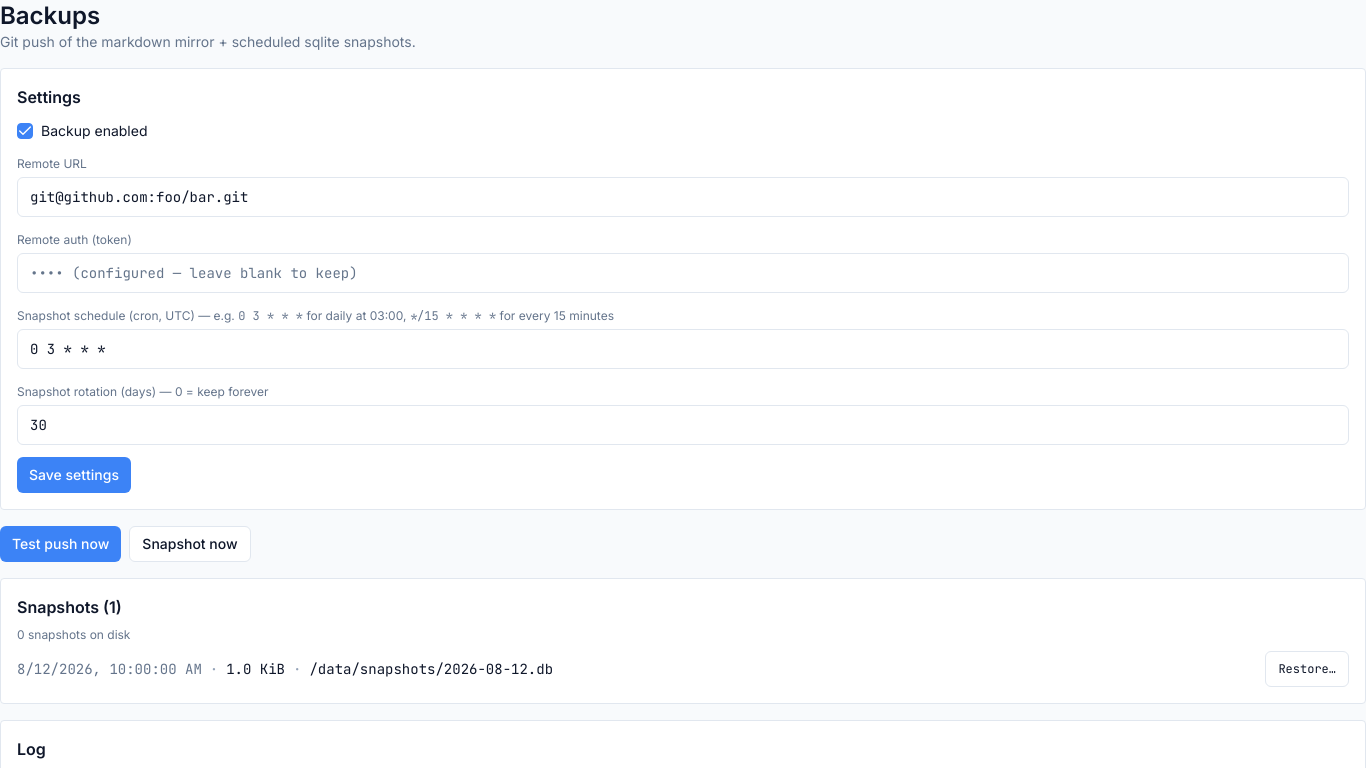
Test case: BackupsSettingsPage › Restore in this window: failed restore rolls maintenance off
This screenshot has width=1366, height=768.
Click the button "Restore…". click: (1307, 669)
box: [1265,651,1349,687]
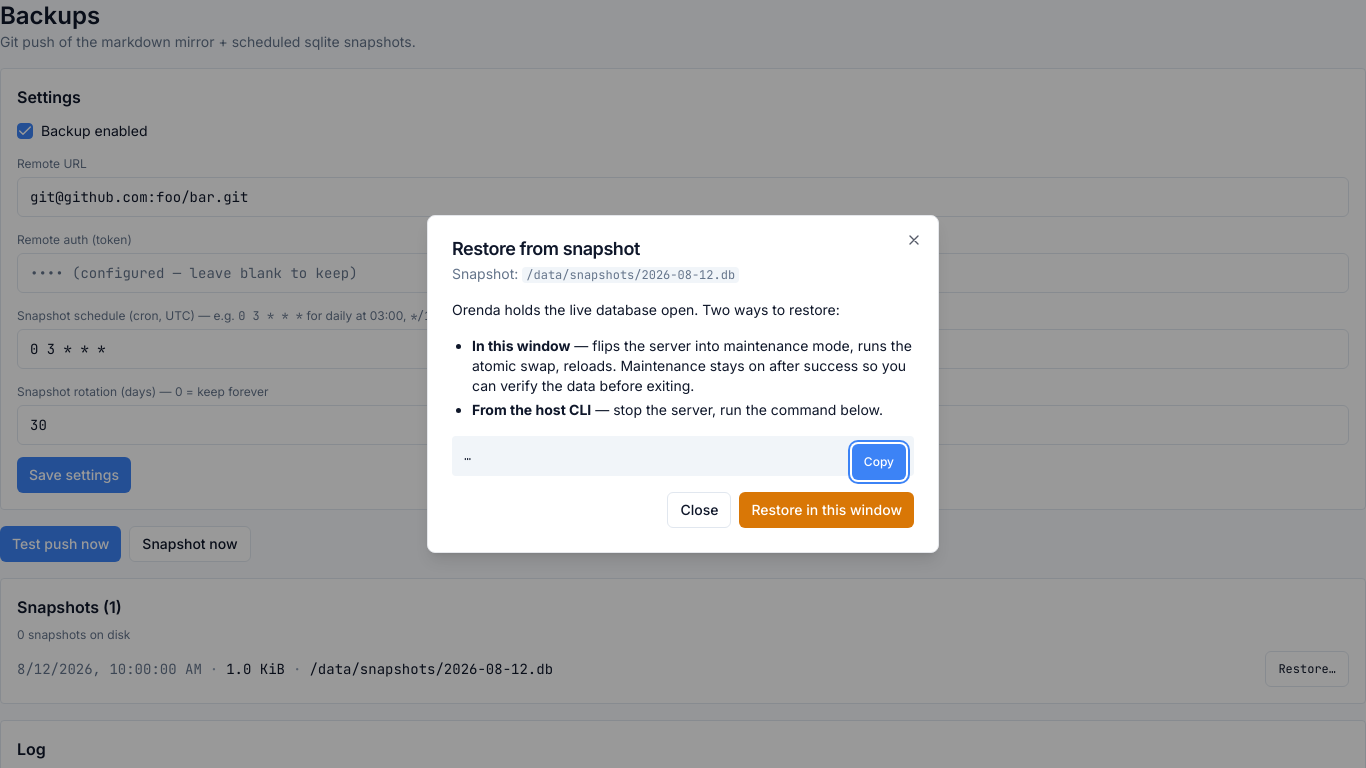
Click the button with test id "restore-inline". click: (827, 510)
box: [739,492,914,528]
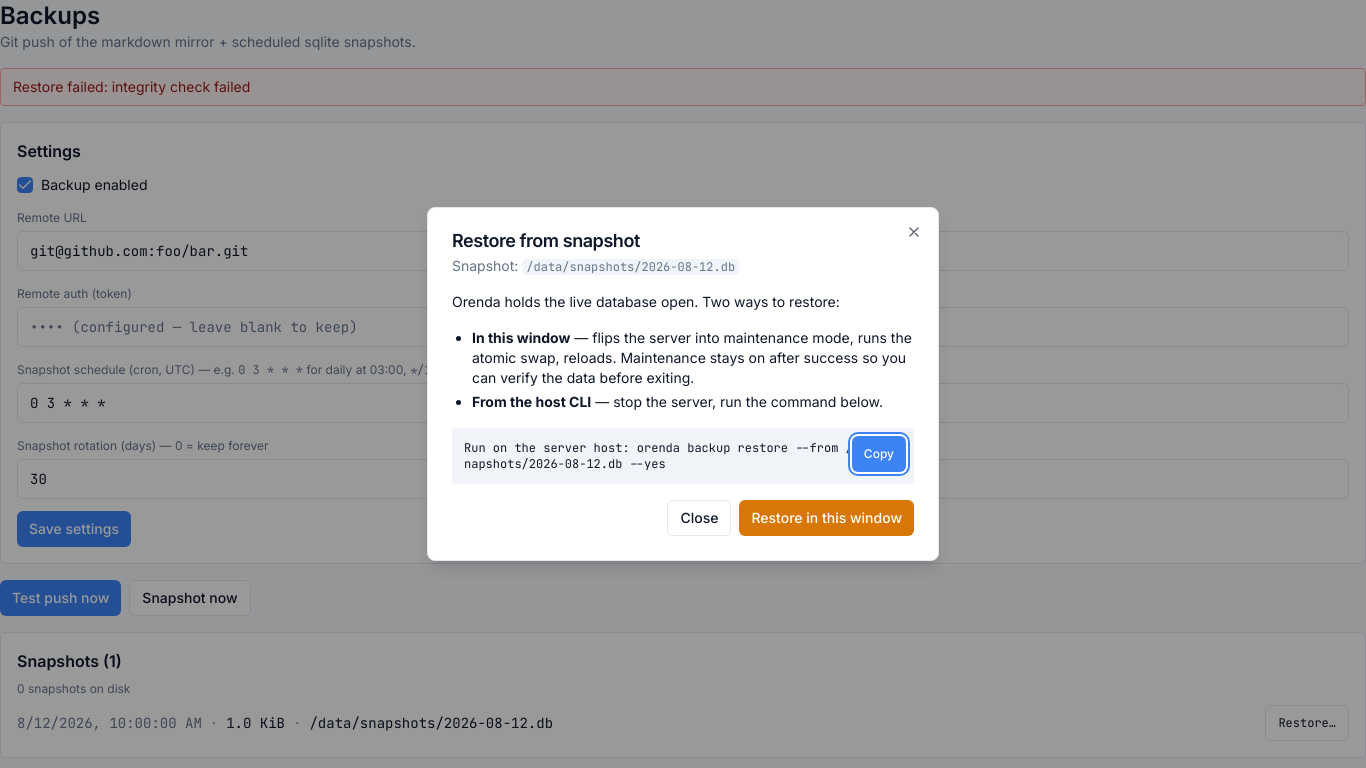
Expected: the text "Restore failed: integrity check failed" is shown, [0,68,1365,106]
